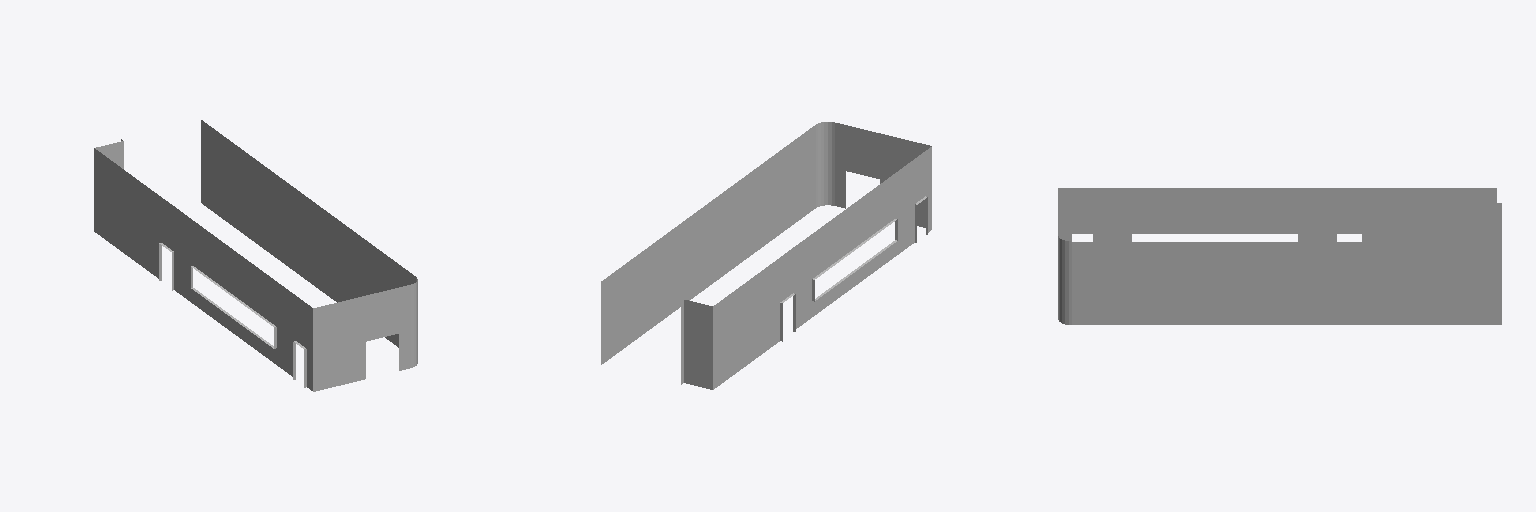
Rendered from Map3VipWalls.obj.
3 renders of one model, left to right at view 1: azimuth 30°, elevation 25°; view 2: azimuth 150°, elevation 25°; view 3: azimuth 270°, elevation 25°, orthographic.
Visible parts, largest first — view 1: Plane.000_Plane.000; view 2: Plane.000_Plane.000; view 3: Plane.000_Plane.000.
Boxes of the visible parts, <box> form: Plane.000_Plane.000: <box>94,120,417,391</box>; Plane.000_Plane.000: <box>601,122,931,389</box>; Plane.000_Plane.000: <box>1058,188,1501,324</box>.
Size of the model in its own units: 7 by 5.01 by 24.